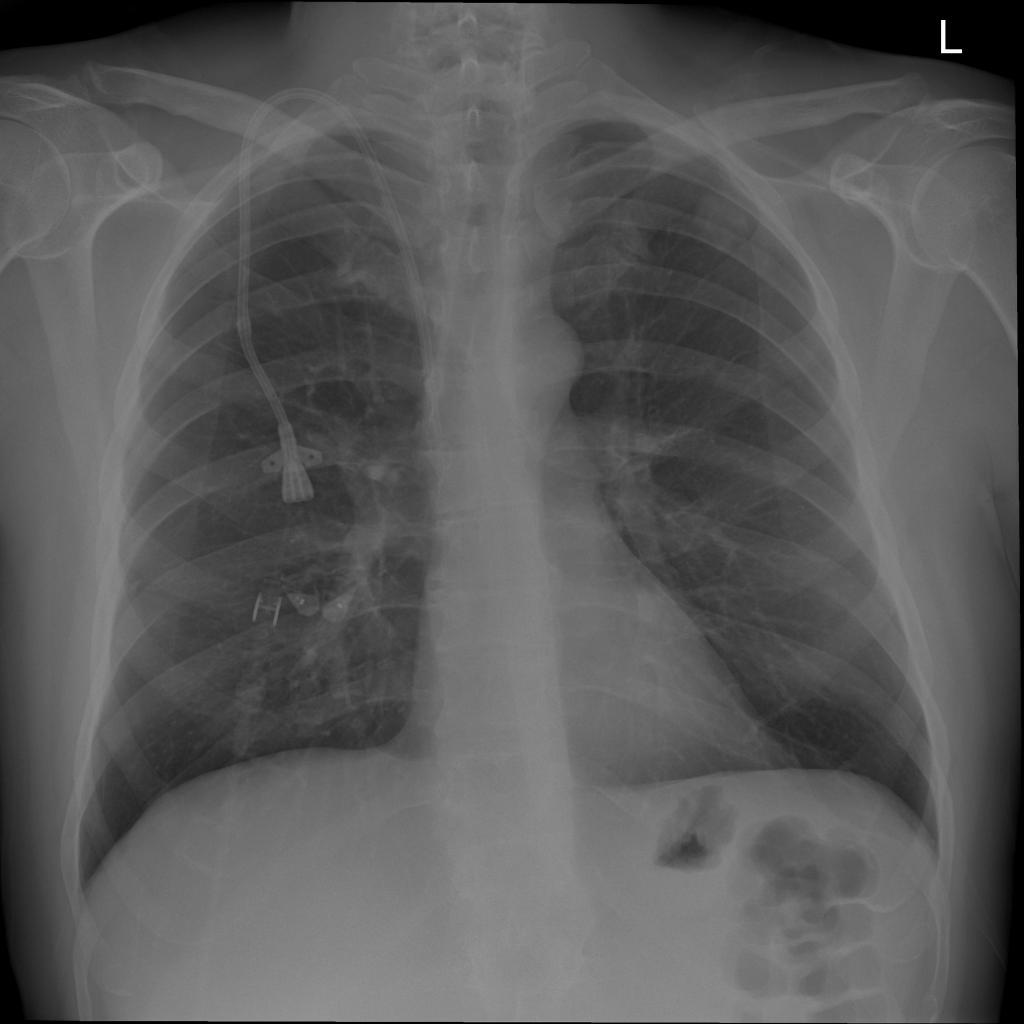Nodule: (253, 70, 272, 86), (229, 152, 246, 168)
